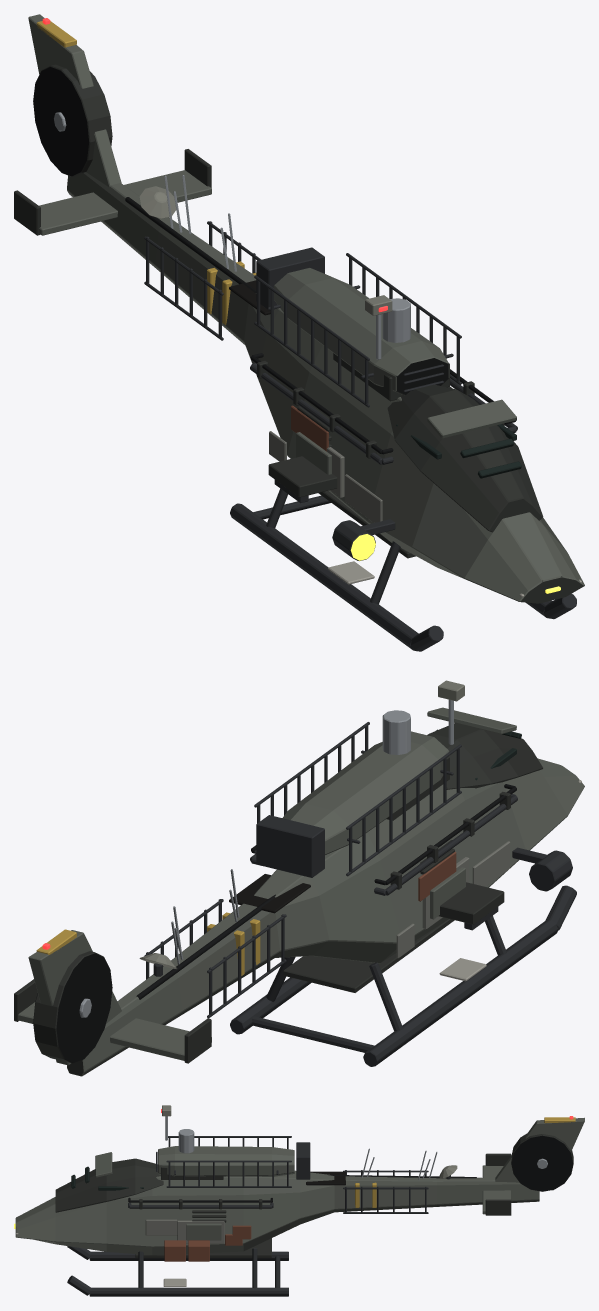
The model's file is Chassis_Scout.fbx.
3 renders of one model, top to bottom at view 1: azimuth 30°, elevation 25°; view 2: azimuth 150°, elevation 25°; view 3: azimuth 270°, elevation 25°, orthographic. The views are drawn at different scales.
Parts seen in each view (by area): view 1: Chassis_Scout; view 2: Chassis_Scout; view 3: Chassis_Scout.
Part boxes in pixels (left/top/right/bottom): Chassis_Scout: left=14, top=14, right=584, bottom=651; Chassis_Scout: left=14, top=680, right=584, bottom=1076; Chassis_Scout: left=14, top=1105, right=584, bottom=1296.
Size of the model in its own units: 2.22 by 3.14 by 10.03.
